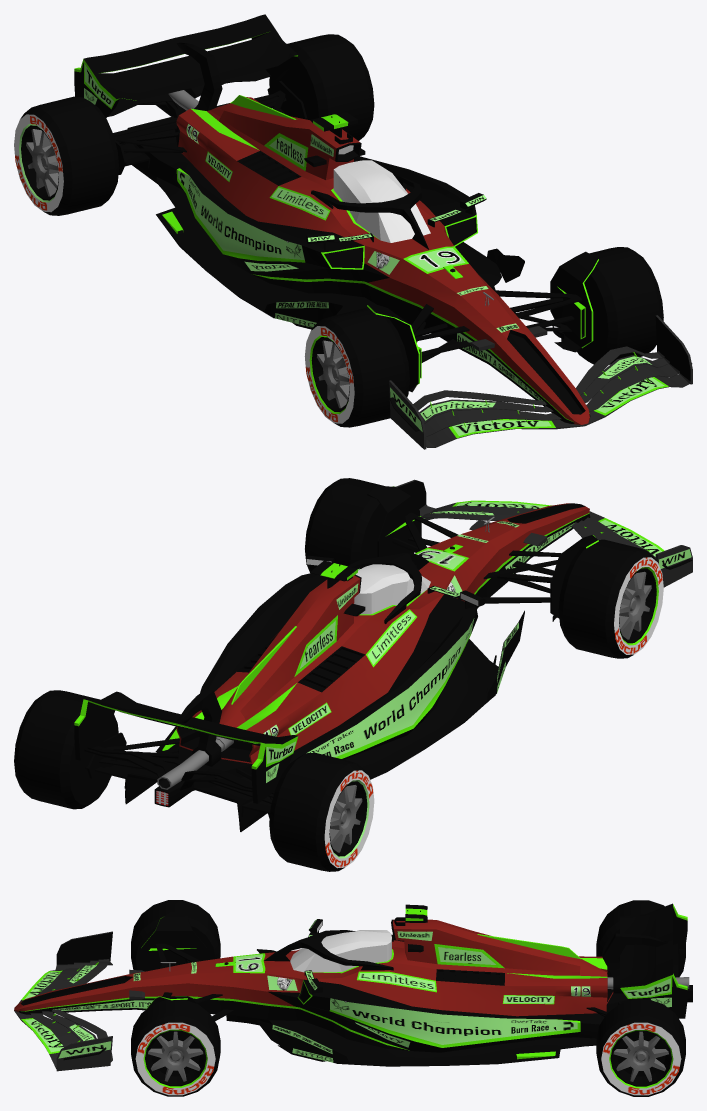
The model's file is f1_car.fbx.
3 views of the same model, one above another, from view 1: azimuth 30°, elevation 25°; view 2: azimuth 150°, elevation 25°; view 3: azimuth 270°, elevation 25° (orthographic). The views are drawn at different scales.
Visible parts, largest first — view 1: f1_car_LOD0, BACK RIGHT WHEEL, FRONT RIGHT WHEEL, FRONT LEFT WHEEL, BACK LEFT WHEEL; view 2: f1_car_LOD0, BACK RIGHT WHEEL, FRONT RIGHT WHEEL, BACK LEFT WHEEL, FRONT LEFT WHEEL; view 3: f1_car_LOD0, BACK LEFT WHEEL, FRONT LEFT WHEEL, FRONT RIGHT WHEEL, BACK RIGHT WHEEL.
Boxes of the visible parts, x1,y1,x2,y2 form: f1_car_LOD0: (74,14,692,449); BACK RIGHT WHEEL: (14,96,119,215); FRONT RIGHT WHEEL: (304,308,409,427); FRONT LEFT WHEEL: (577,247,663,364); BACK LEFT WHEEL: (269,34,374,140); f1_car_LOD0: (74,479,692,831); BACK RIGHT WHEEL: (269,752,374,871); FRONT RIGHT WHEEL: (558,539,663,658); BACK LEFT WHEEL: (14,690,118,809); FRONT LEFT WHEEL: (305,478,386,572); f1_car_LOD0: (14,903,692,1071); BACK LEFT WHEEL: (596,999,685,1096); FRONT LEFT WHEEL: (131,999,220,1096); FRONT RIGHT WHEEL: (131,900,220,970); BACK RIGHT WHEEL: (596,900,685,977).
Size of what is drawn, in the model's own units: 2.25 by 1.11 by 5.3.
3 materials, 1 textured.
